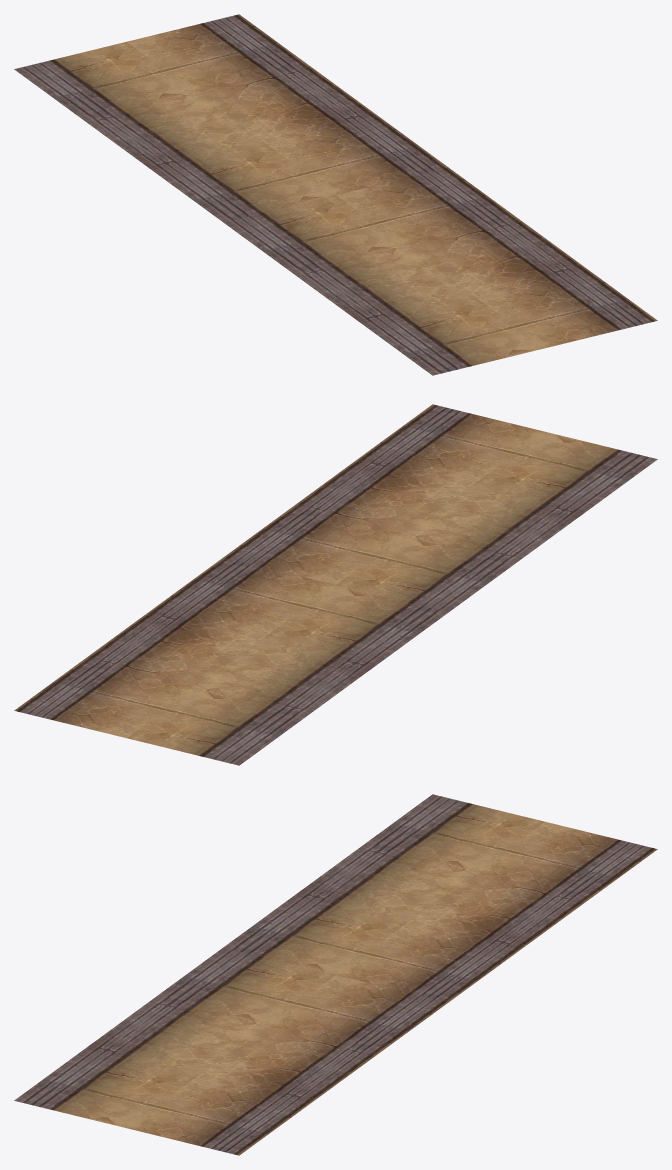
The model's file is S_Build_City145.FBX.
3 renders of one model, top to bottom at view 1: azimuth 30°, elevation 25°; view 2: azimuth 150°, elevation 25°; view 3: azimuth 330°, elevation 25°, orthographic.
Parts seen in each view (by area): view 1: S_Build_City145; view 2: S_Build_City145; view 3: S_Build_City145.
Part boxes in pixels (box(x1,y1,x2,y2)): S_Build_City145: box(14, 14, 657, 375); S_Build_City145: box(14, 404, 657, 765); S_Build_City145: box(14, 794, 657, 1155).
Bounding box in the file's own units: 665 × 0.00314 × 2139.
